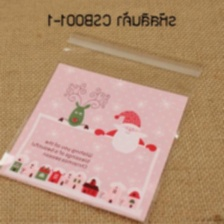snack: (0, 25, 210, 224)
